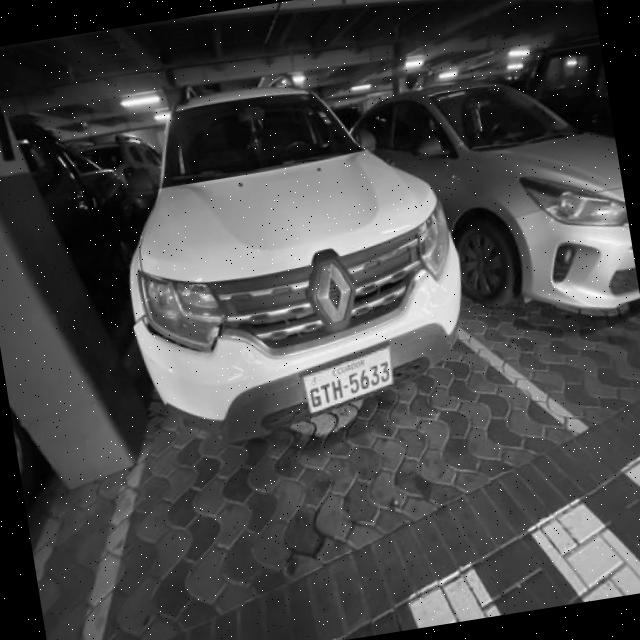Placa: (304, 349, 398, 414)
